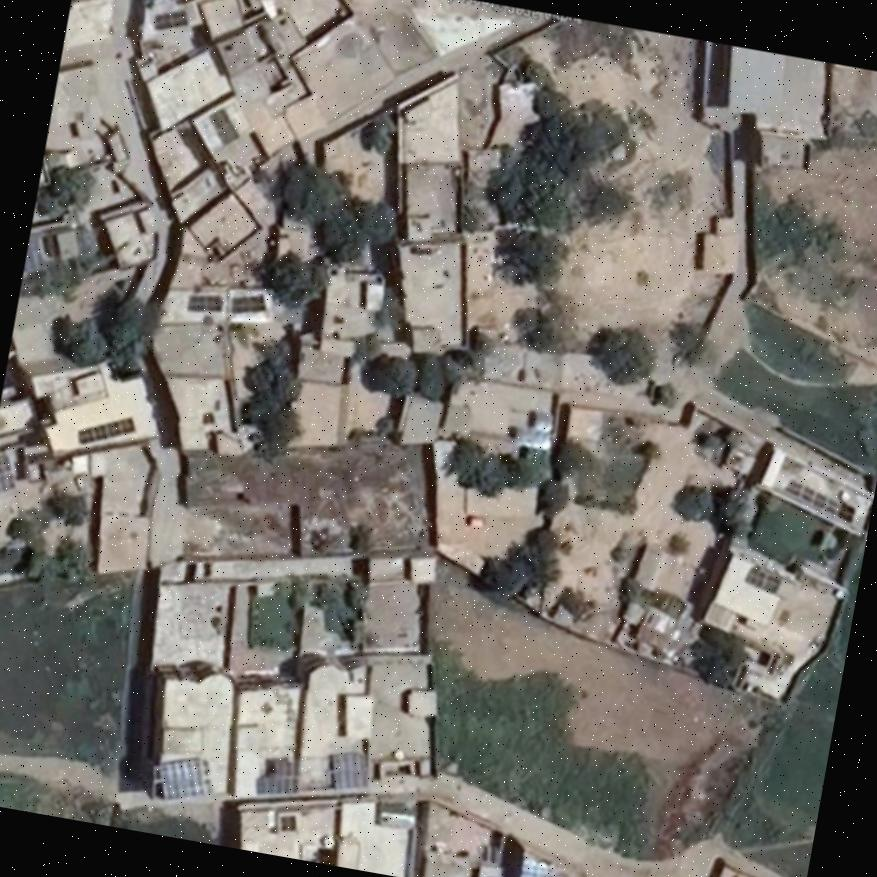Solarpanel: (159, 759, 209, 796), (78, 416, 133, 441), (332, 753, 365, 787), (232, 294, 264, 312), (186, 295, 219, 312), (0, 456, 16, 491)
